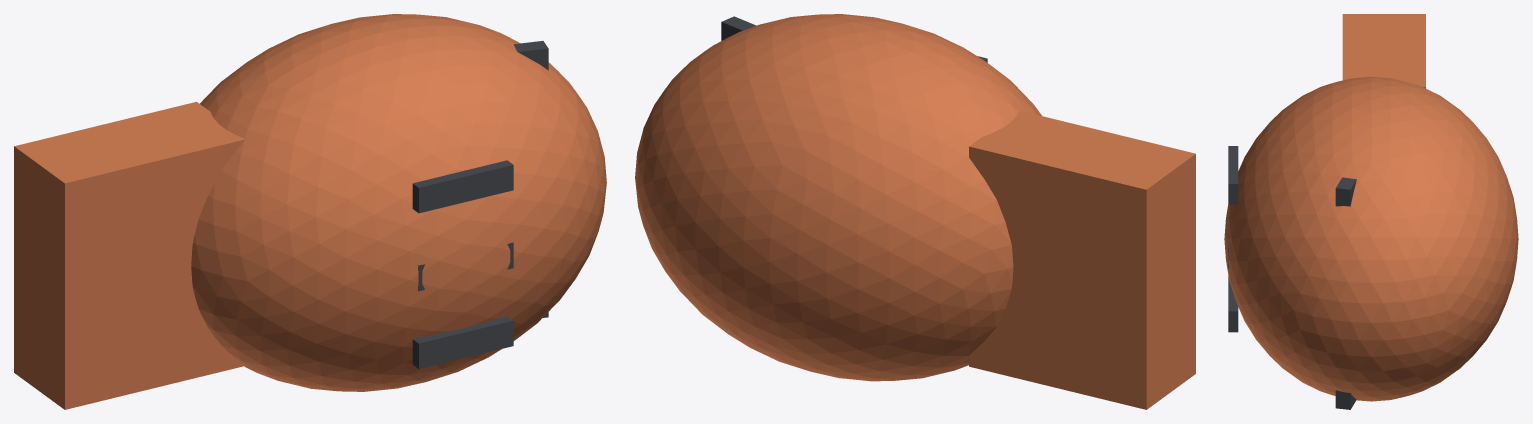
3 views of the same model, side by side, from view 1: azimuth 30°, elevation 25°; view 2: azimuth 150°, elevation 25°; view 3: azimuth 270°, elevation 25° (orthographic). The views are drawn at different scales.
Parts seen in each view (by area): view 1: geometry_0; view 2: geometry_0; view 3: geometry_0.
Part boxes in pixels (x1=…): geometry_0: x1=14, y1=14, x2=606, y2=409; geometry_0: x1=635, y1=14, x2=1195, y2=409; geometry_0: x1=1224, y1=14, x2=1518, y2=409.
Bounding box in the file's own units: 0.4 × 0.24 × 0.23.
